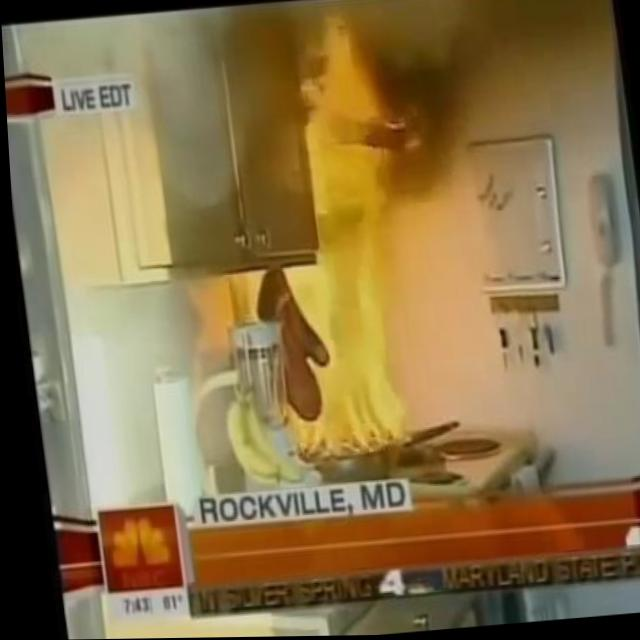fire: (246, 18, 423, 466)
